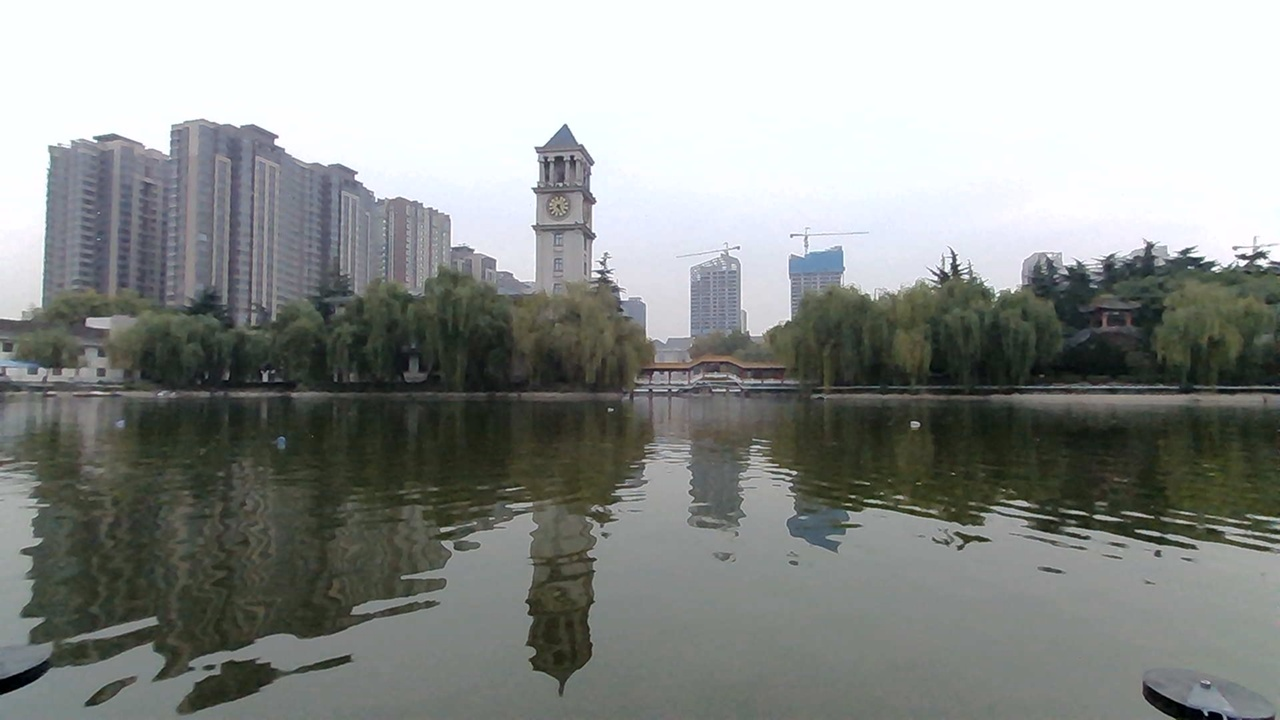bottle: (897, 412, 935, 433), (268, 432, 302, 454), (115, 407, 136, 435)
